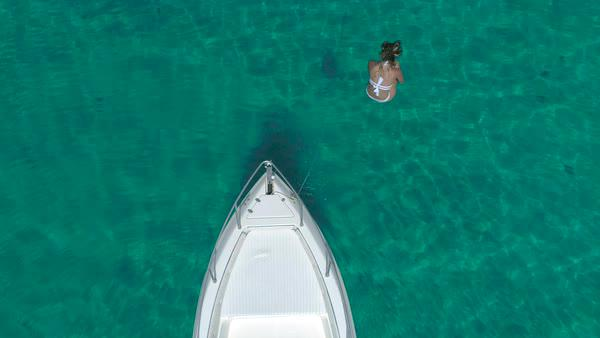human: (366, 40, 405, 106)
